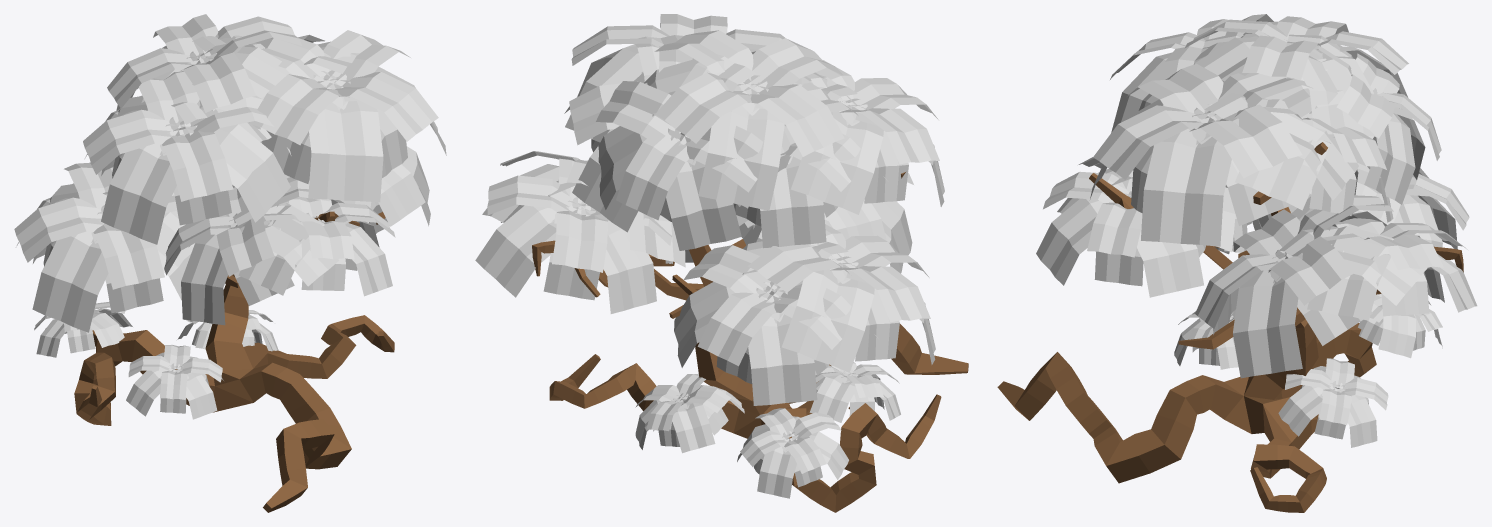
The model's file is giant tree.fbx.
3 renders of one model, left to right at view 1: azimuth 30°, elevation 25°; view 2: azimuth 150°, elevation 25°; view 3: azimuth 270°, elevation 25°, orthographic. The views are drawn at different scales.
Parts seen in each view (by area): view 1: pixil-layer-Layer 1 (4).004, pixil-layer-Layer 1 (4).005, Cube.001, pixil-layer-Layer 1 (4).003, pixil-layer-Layer 1 (4).001, pixil-layer-Layer 1 (4).002, pixil-layer-Layer 1 (4).008, pixil-layer-Layer 1 (4).006, pixil-layer-Layer 1 (4).007, pixil-layer-Layer 1 (4).009; view 2: pixil-layer-Layer 1 (4).002, pixil-layer-Layer 1 (4).001, pixil-layer-Layer 1 (4).006, pixil-layer-Layer 1 (4).004, Cube.001, pixil-layer-Layer 1 (4).005, pixil-layer-Layer 1 (4).007, pixil-layer-Layer 1 (4).009, pixil-layer-Layer 1 (4).008, pixil-layer-Layer 1 (4).003; view 3: pixil-layer-Layer 1 (4).005, pixil-layer-Layer 1 (4).006, Cube.001, pixil-layer-Layer 1 (4).002, pixil-layer-Layer 1 (4).003, pixil-layer-Layer 1 (4).009, pixil-layer-Layer 1 (4).001, pixil-layer-Layer 1 (4).004, pixil-layer-Layer 1 (4).007, pixil-layer-Layer 1 (4).008.
Part boxes in pixels (left/top/right/bottom): pixil-layer-Layer 1 (4).004: left=83, top=71, right=290, bottom=244; pixil-layer-Layer 1 (4).005: left=243, top=30, right=446, bottom=202; Cube.001: left=74, top=211, right=394, bottom=512; pixil-layer-Layer 1 (4).003: left=164, top=177, right=395, bottom=325; pixil-layer-Layer 1 (4).001: left=14, top=162, right=194, bottom=332; pixil-layer-Layer 1 (4).002: left=107, top=14, right=301, bottom=130; pixil-layer-Layer 1 (4).008: left=126, top=345, right=223, bottom=419; pixil-layer-Layer 1 (4).006: left=232, top=146, right=430, bottom=270; pixil-layer-Layer 1 (4).007: left=34, top=302, right=132, bottom=357; pixil-layer-Layer 1 (4).009: left=177, top=310, right=278, bottom=351; pixil-layer-Layer 1 (4).002: left=596, top=30, right=844, bottom=250; pixil-layer-Layer 1 (4).001: left=674, top=224, right=935, bottom=405; pixil-layer-Layer 1 (4).006: left=475, top=151, right=693, bottom=313; pixil-layer-Layer 1 (4).004: left=733, top=60, right=944, bottom=248; Cube.001: left=532, top=172, right=968, bottom=512; pixil-layer-Layer 1 (4).005: left=564, top=14, right=785, bottom=232; pixil-layer-Layer 1 (4).007: left=737, top=408, right=848, bottom=498; pixil-layer-Layer 1 (4).009: left=635, top=374, right=744, bottom=453; pixil-layer-Layer 1 (4).008: left=806, top=362, right=900, bottom=422; pixil-layer-Layer 1 (4).003: left=739, top=173, right=913, bottom=273; pixil-layer-Layer 1 (4).005: left=1090, top=63, right=1393, bottom=246; pixil-layer-Layer 1 (4).006: left=1195, top=195, right=1477, bottom=378; Cube.001: left=997, top=142, right=1463, bottom=512; pixil-layer-Layer 1 (4).002: left=1184, top=16, right=1441, bottom=204; pixil-layer-Layer 1 (4).003: left=1036, top=157, right=1271, bottom=297; pixil-layer-Layer 1 (4).009: left=1278, top=358, right=1388, bottom=447; pixil-layer-Layer 1 (4).001: left=1215, top=162, right=1469, bottom=254; pixil-layer-Layer 1 (4).004: left=1110, top=14, right=1309, bottom=132; pixil-layer-Layer 1 (4).007: left=1358, top=294, right=1442, bottom=358; pixil-layer-Layer 1 (4).008: left=1174, top=309, right=1238, bottom=369.
Size of the model in its own units: 7472 by 6998 by 7005.
